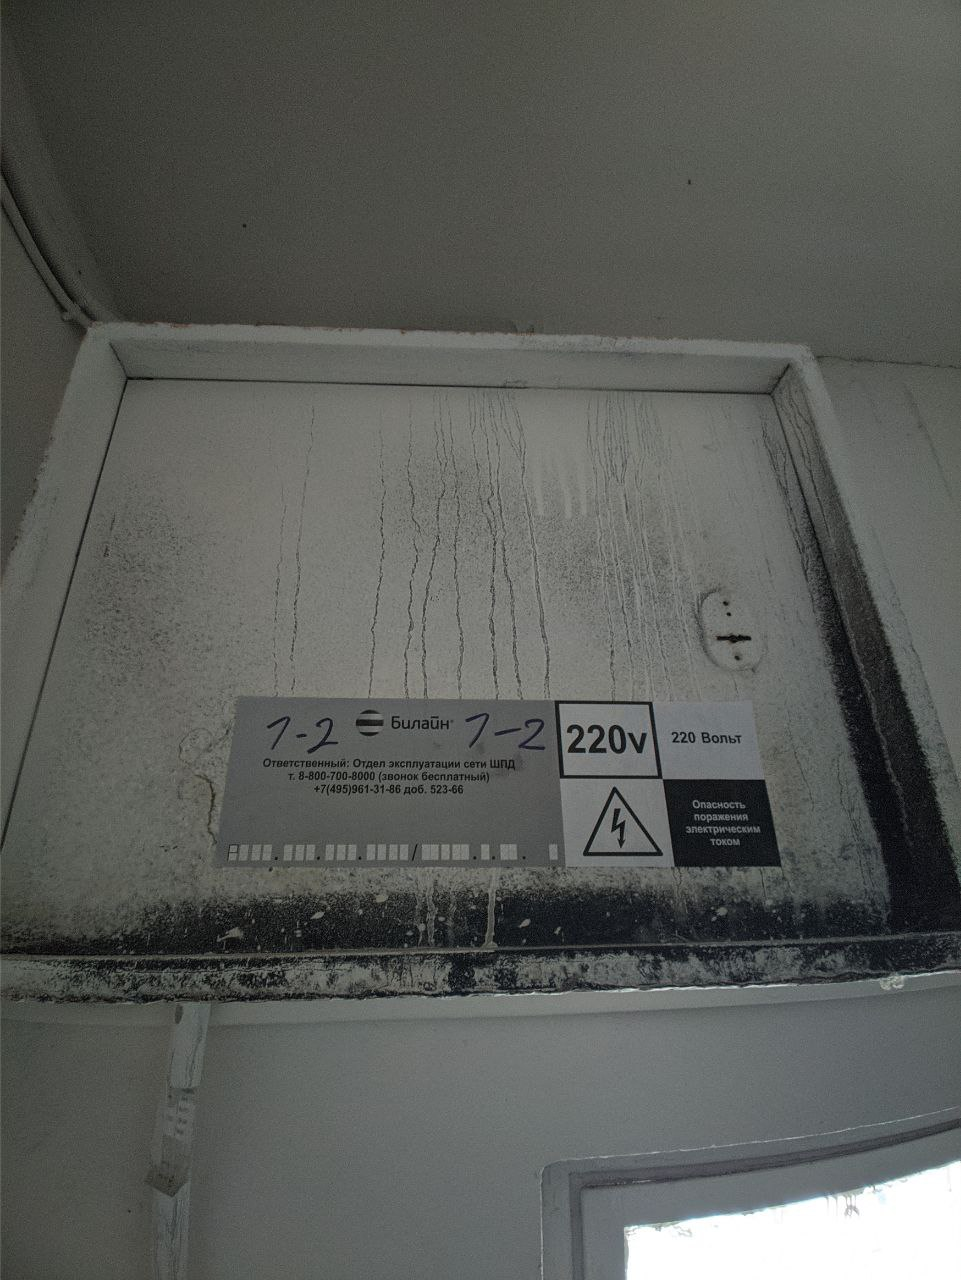shta-9m: (17, 311, 949, 1022)
